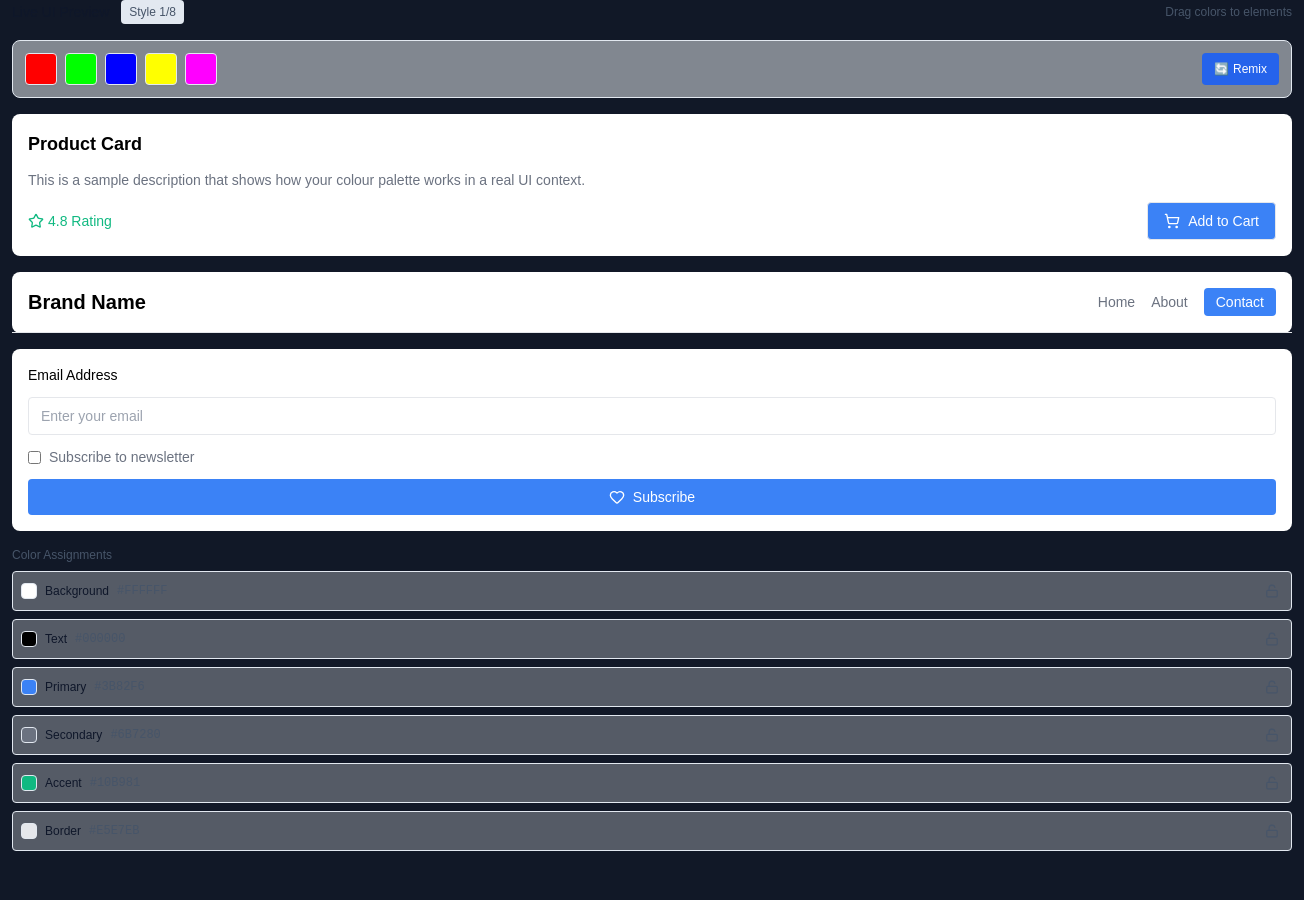
Test: LiveUIPreview › should cycle through mapping presets when remix button is clicked
// Click the remix button
What coordinates should you click on to do the following:
click the text "Remix"
I would click on:
 (1250, 69)
Its box is top-left (1233, 61), bottom-right (1267, 77).
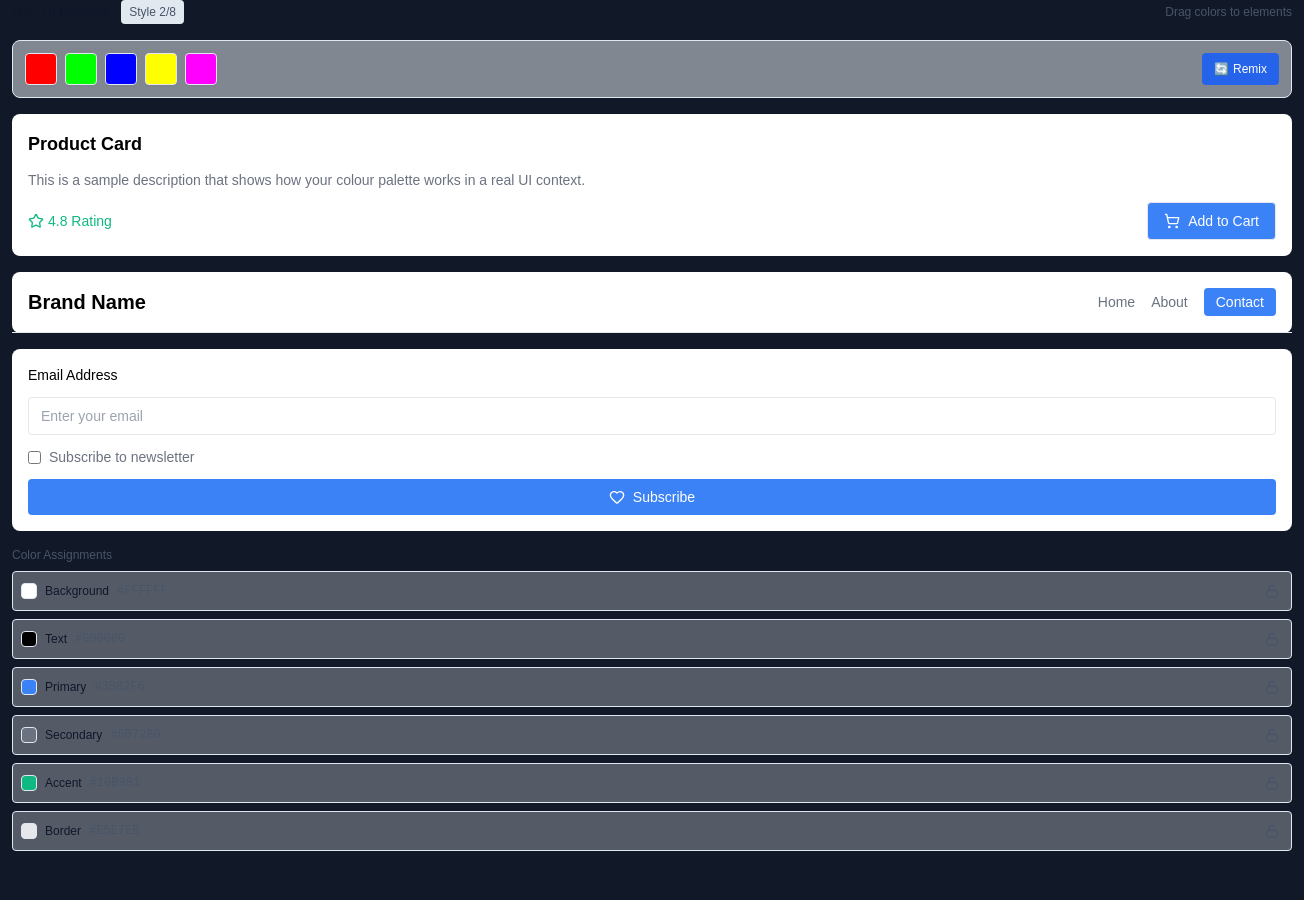
Expected: the text "Style 2/8" is shown, top-left (121, 0), bottom-right (184, 24)
